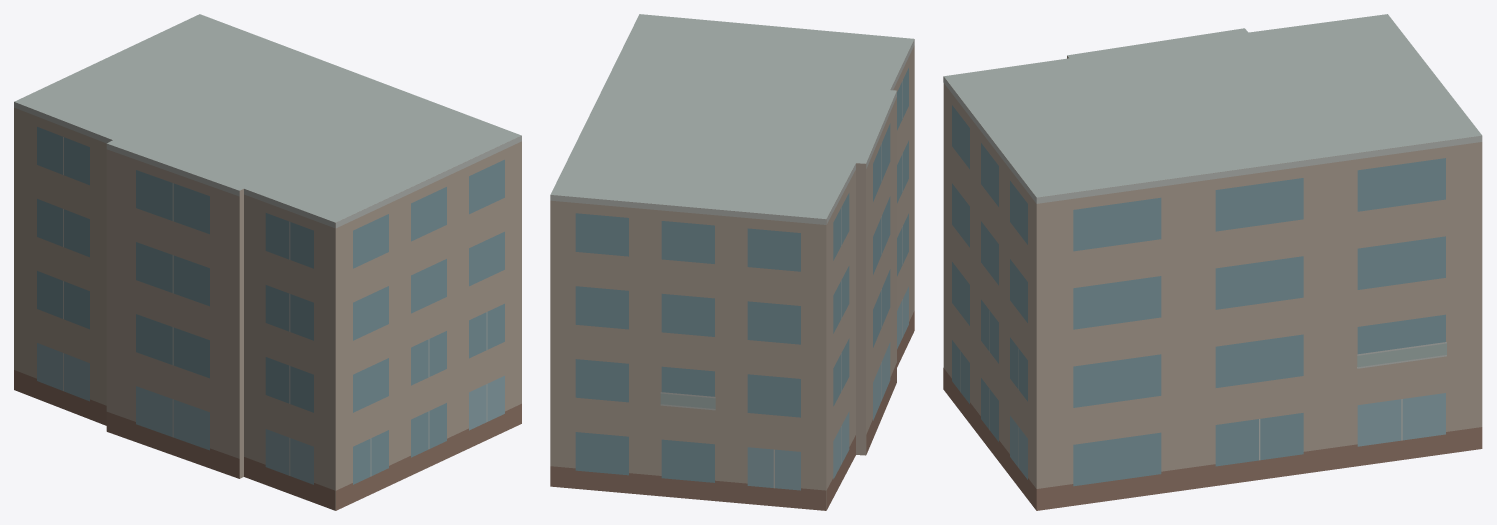
File: survey-upis-32813600.glb
3 views of the same model, side by side, from view 1: azimuth 30°, elevation 25°; view 2: azimuth 150°, elevation 25°; view 3: azimuth 270°, elevation 25° (orthographic). The views are drawn at different scales.
Visible parts, largest first — view 1: survey-upis-32813600.tmp; view 2: survey-upis-32813600.tmp; view 3: survey-upis-32813600.tmp.
Part boxes in pixels (box(x1,y1,x2,y2)): survey-upis-32813600.tmp: box(14, 14, 521, 510); survey-upis-32813600.tmp: box(550, 14, 914, 510); survey-upis-32813600.tmp: box(943, 14, 1482, 510).
Size of the model in its own units: 15.35 by 12.2 by 19.03.
